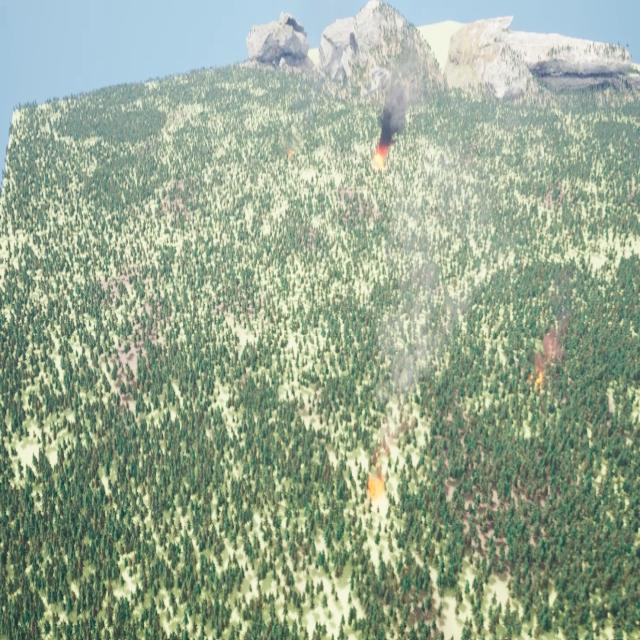fire: (367, 474, 388, 493), (528, 363, 544, 387), (374, 140, 388, 163), (288, 146, 297, 160)
smoke: (376, 232, 452, 460), (380, 71, 414, 143), (539, 320, 566, 361)
